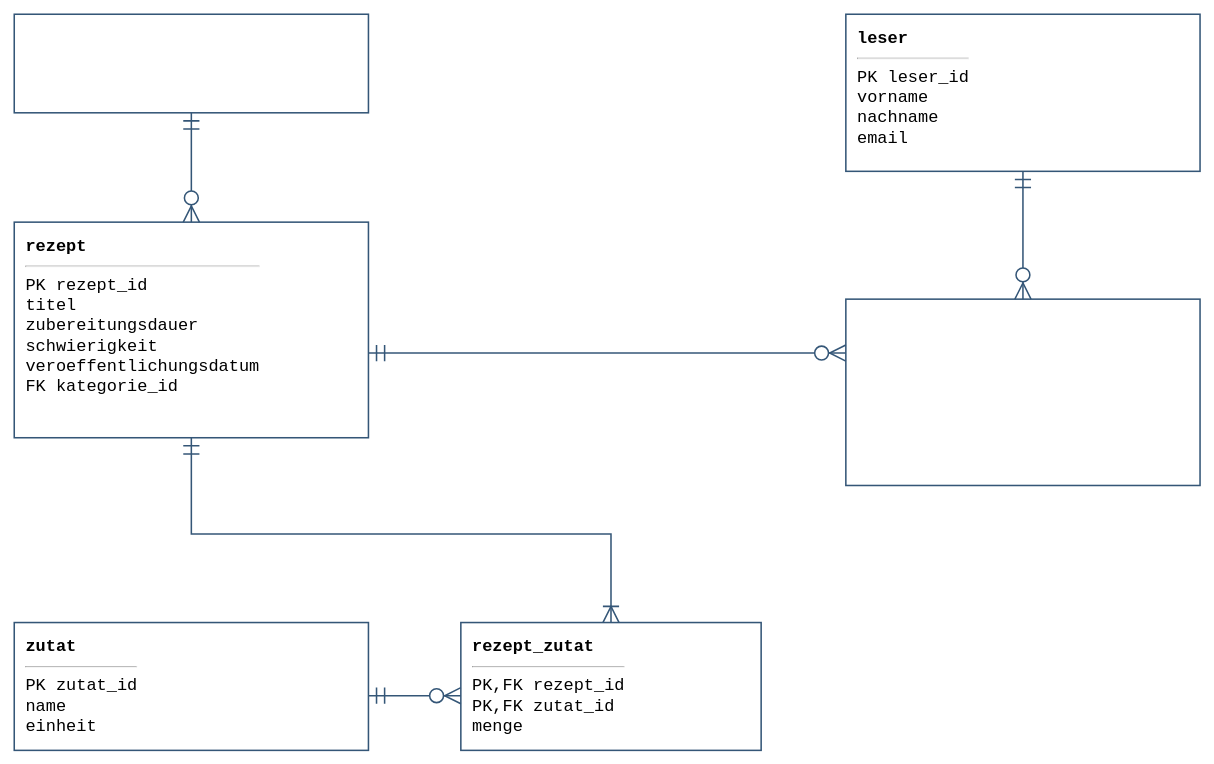
The diagram is 1214 pixels wide and 764 high, and some of its shapes have lost their labels. The box of each missing label's shape, as (x1, y1, x2, y2) in pixels:
kategorie PK kategorie_id bezeichnung: (13, 13, 369, 113)
kommentar PK kommentar_id text sterne FK rezept_id FK leser_id: (845, 298, 1200, 486)
